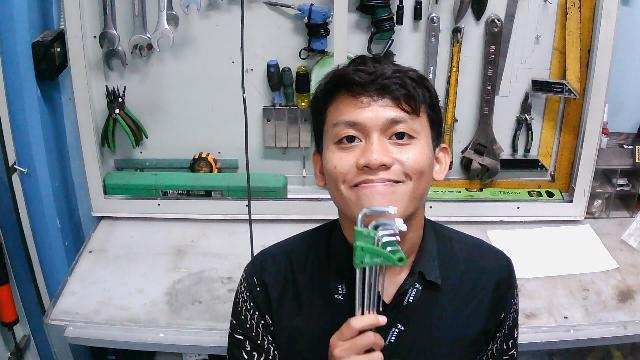kunci_l_bintang: (350, 201, 408, 335)
